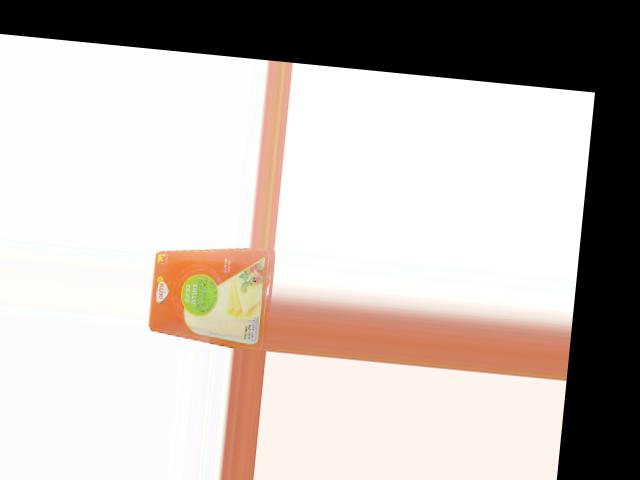cheese: (147, 238, 276, 349)
